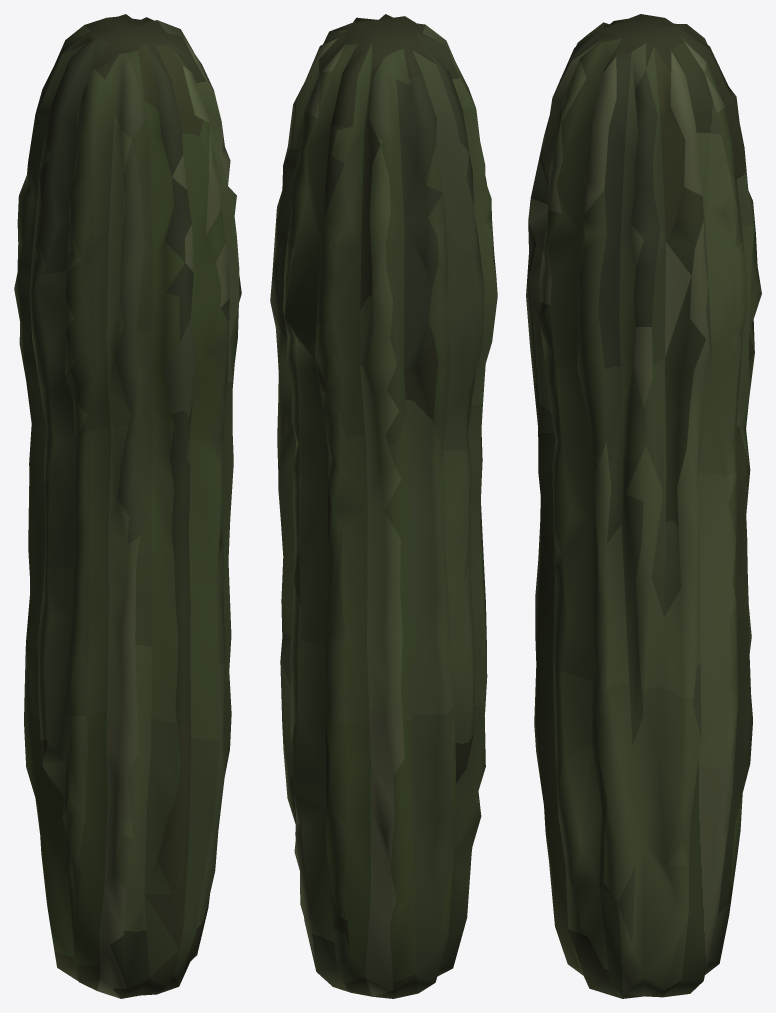
The model's file is saguaro_young.glb.
The picture shows the model from 3 angles, left to right: view 1: azimuth 30°, elevation 25°; view 2: azimuth 150°, elevation 25°; view 3: azimuth 270°, elevation 25°; orthographic projection.
Visible parts, largest first — view 1: LO.001; view 2: LO.001; view 3: LO.001.
Part boxes in pixels (x1=…): LO.001: x1=14, y1=14, x2=241, y2=998; LO.001: x1=270, y1=14, x2=497, y2=998; LO.001: x1=526, y1=14, x2=761, y2=998.
Bounding box in the file's own units: 0.3452 × 1.6 × 0.3578.
1 material, 1 textured.
